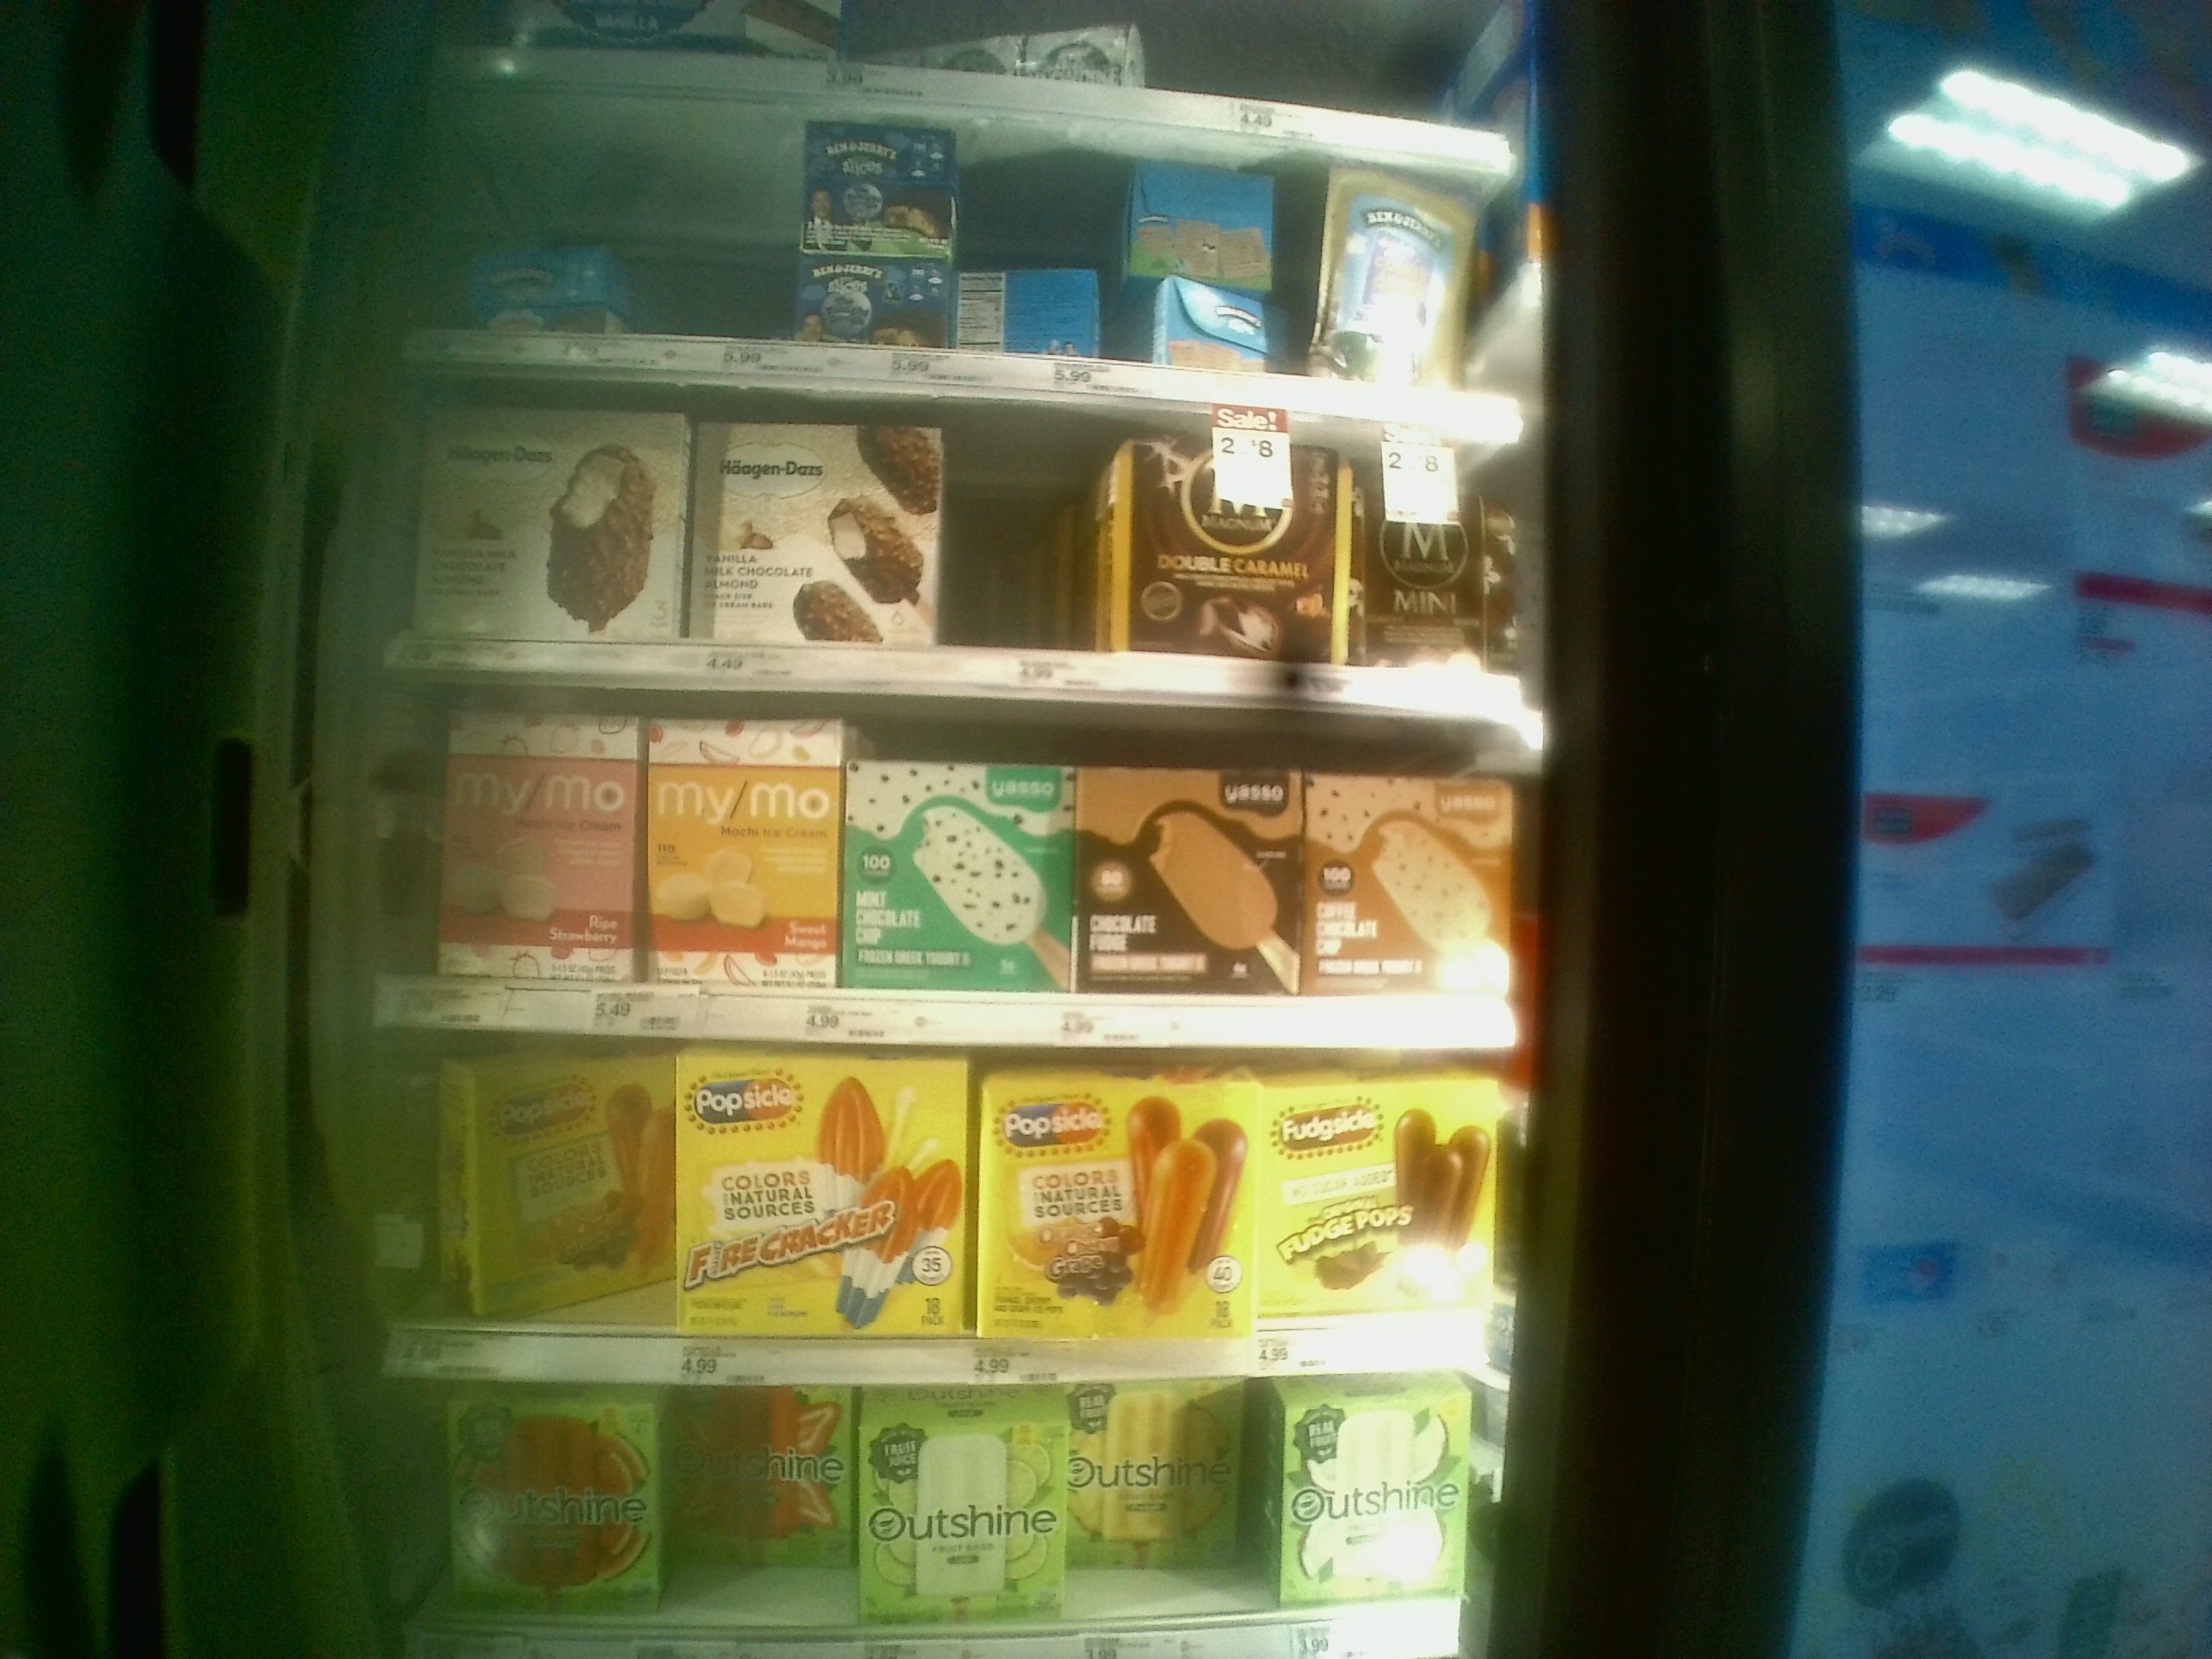ice-cream-shelf: (369, 673, 1531, 1033), (364, 1044, 1498, 1368)
